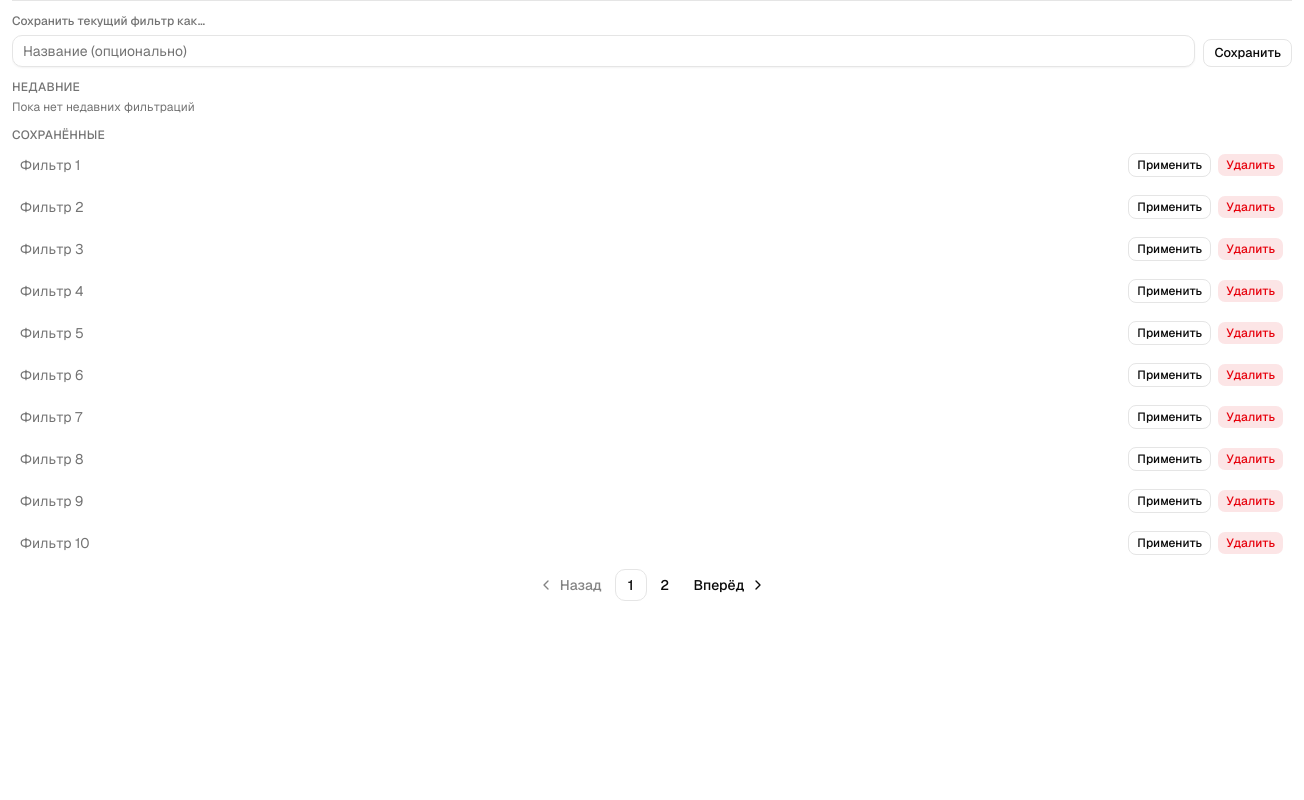
Test case: SavedFiltersPanel › paginates saved filters when there are more than one page
Expected: the text "Фильтр 1" is shown, x1=20 y1=155 x2=80 y2=175
Expected: the text "Фильтр 11" is not shown
Click the button with aria-label "Следующая страница".
click(728, 585)  # box x1=683 y1=569 x2=773 y2=601
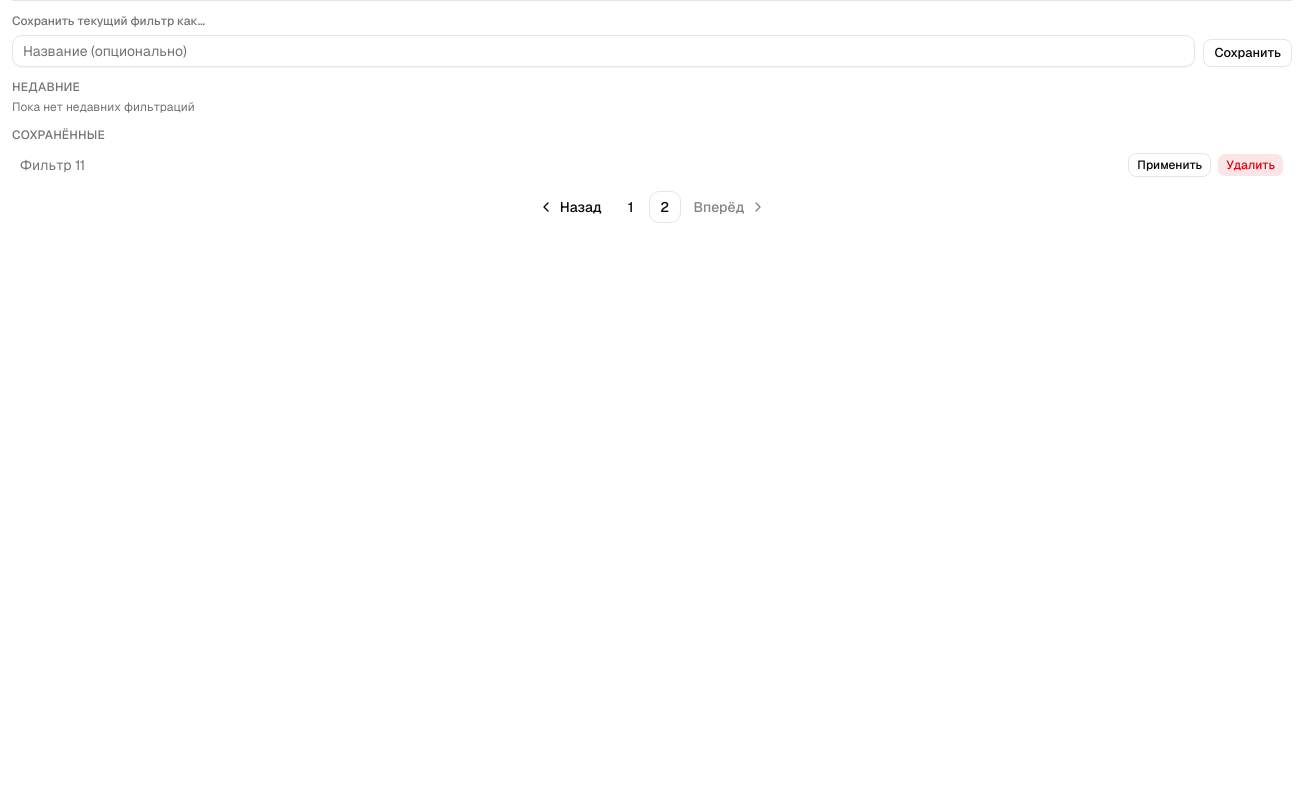
Expected: the text "Фильтр 11" is shown, x1=20 y1=155 x2=85 y2=175
